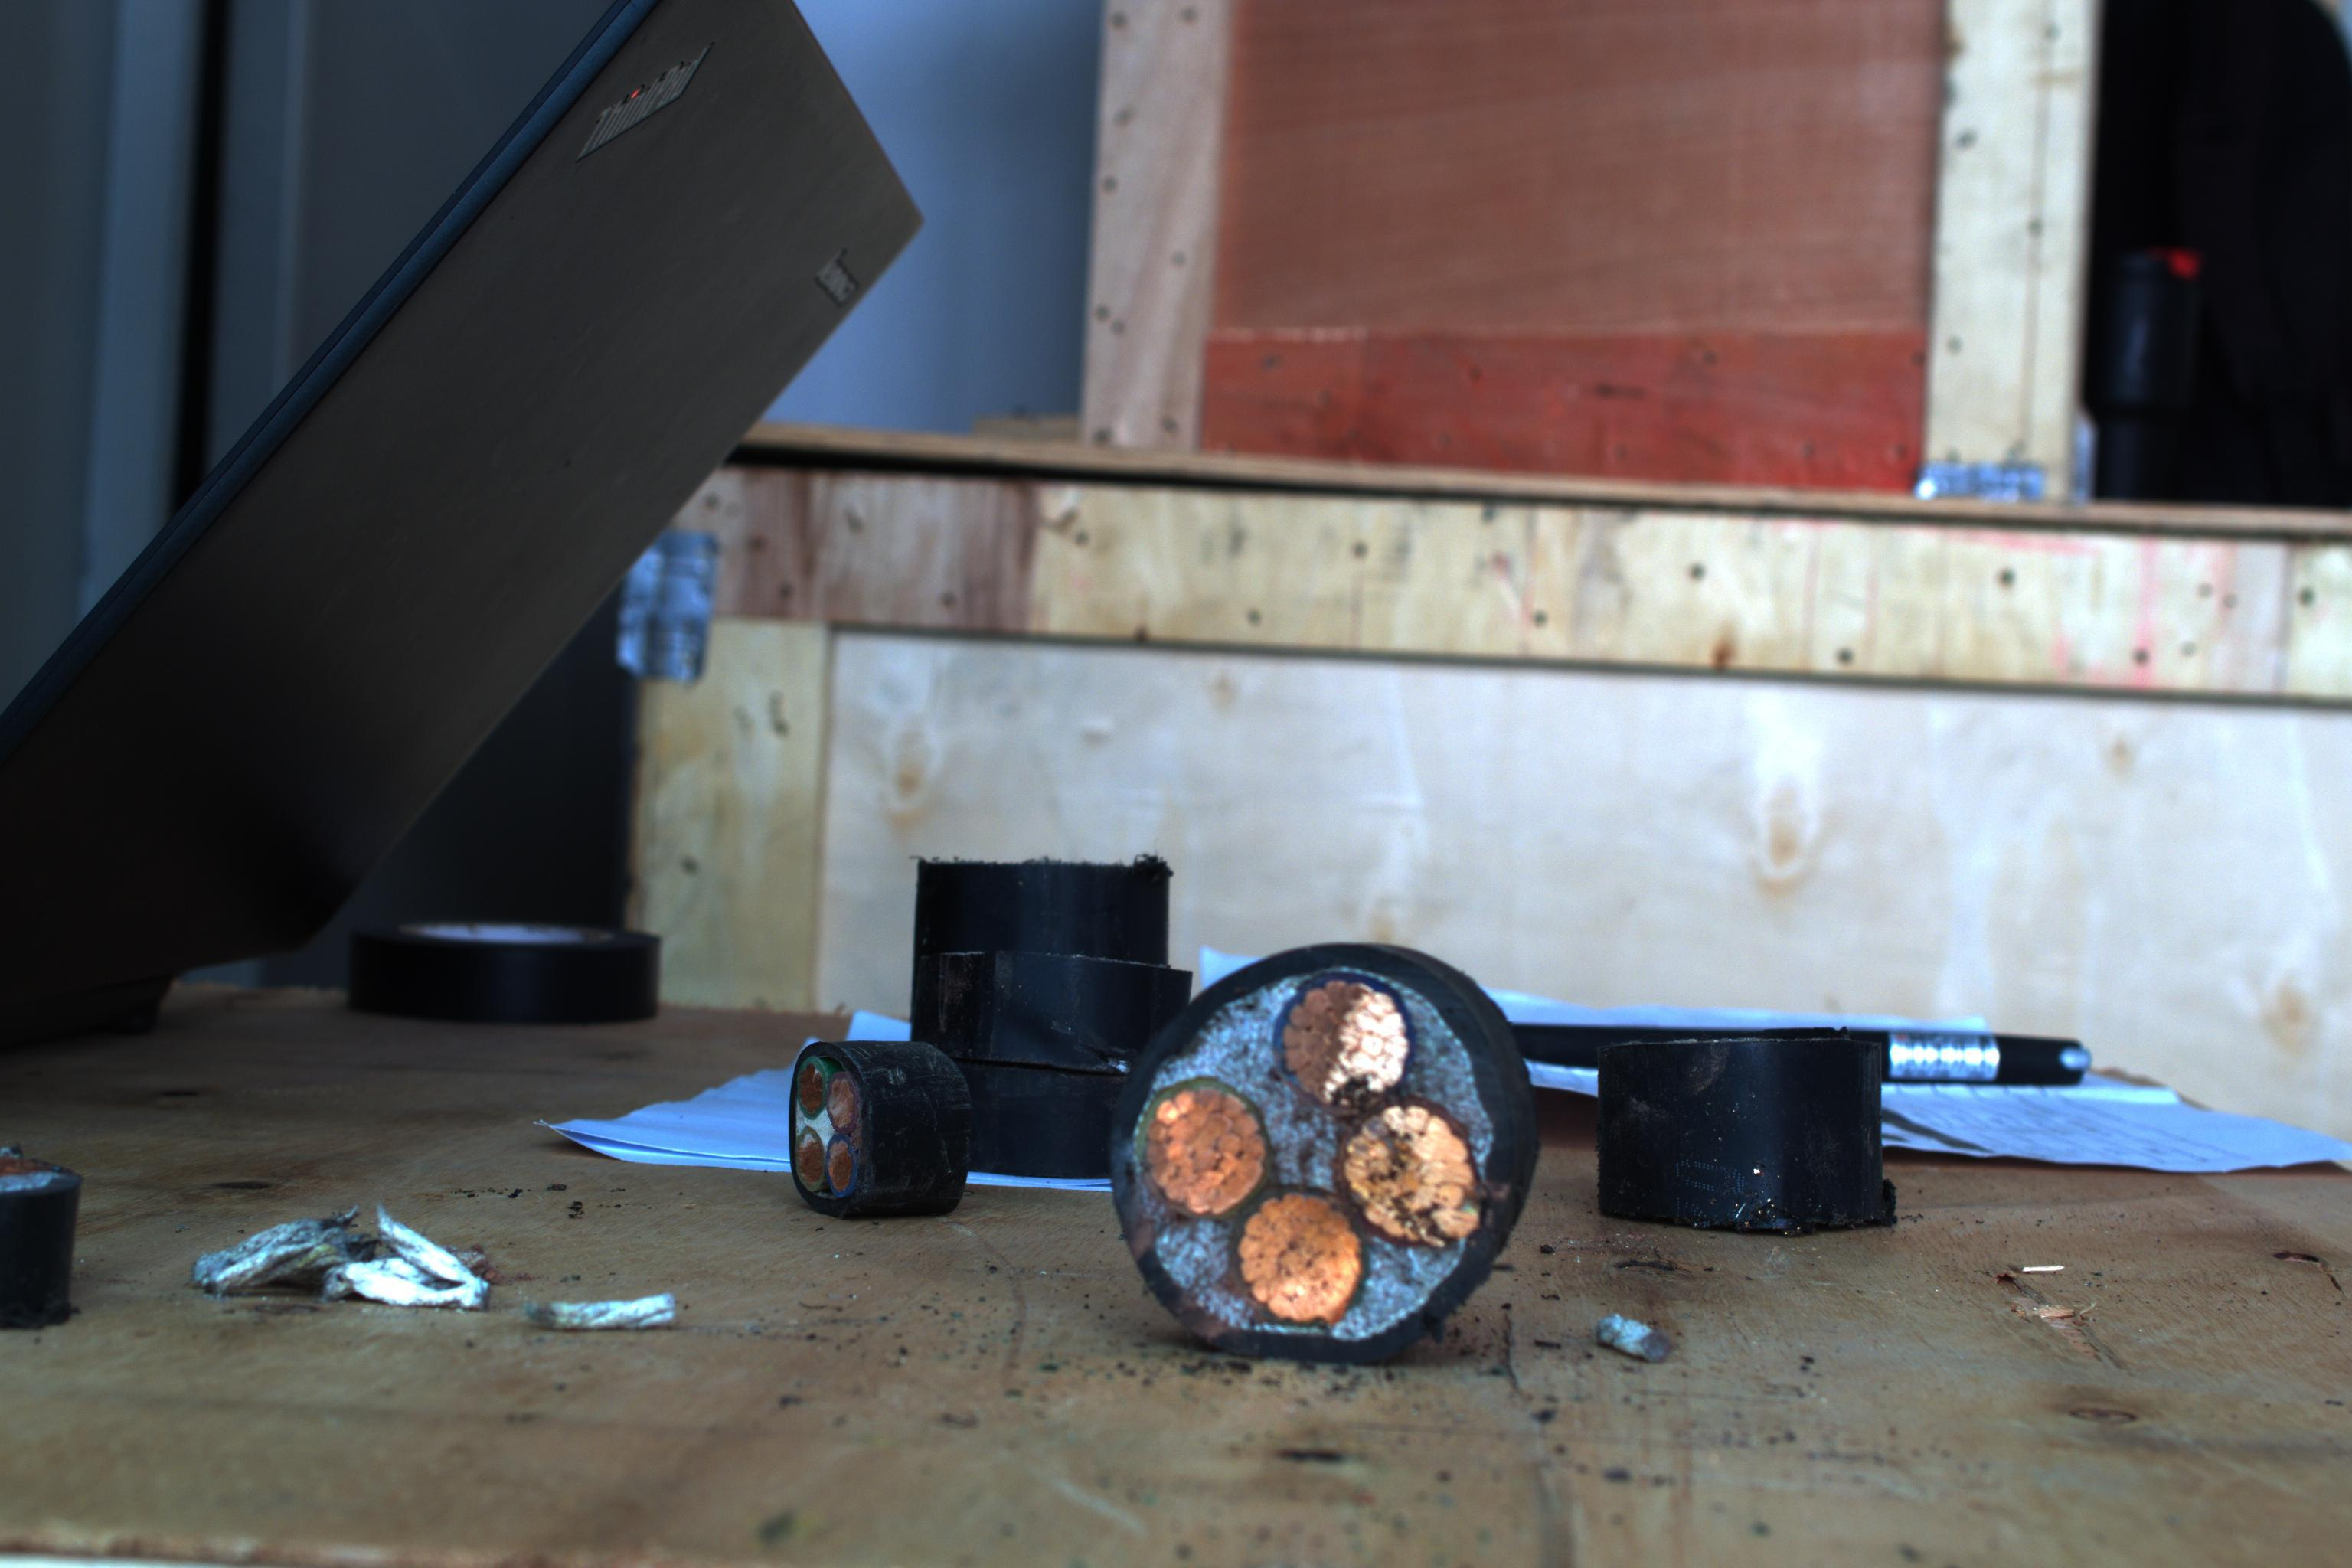YJV_0.6_1kV_4x120: (1090, 954, 1517, 1344)
